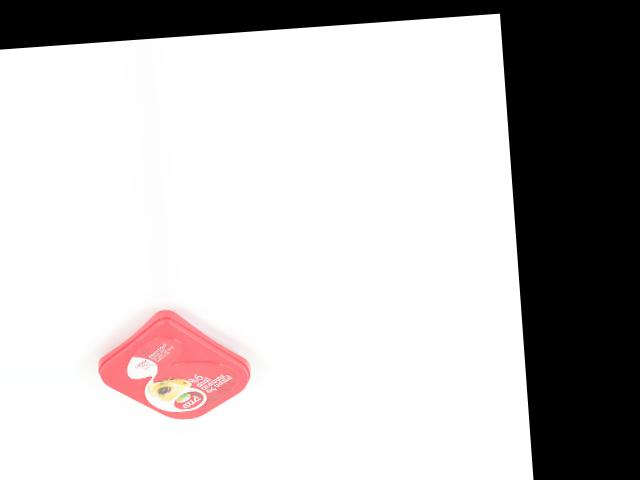cheese: (93, 303, 253, 425)
